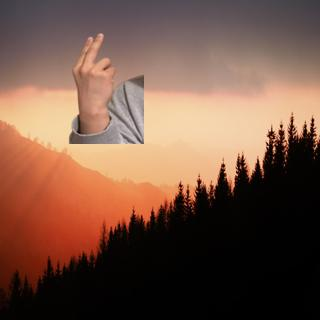DHAVE: (70, 29, 118, 117)
